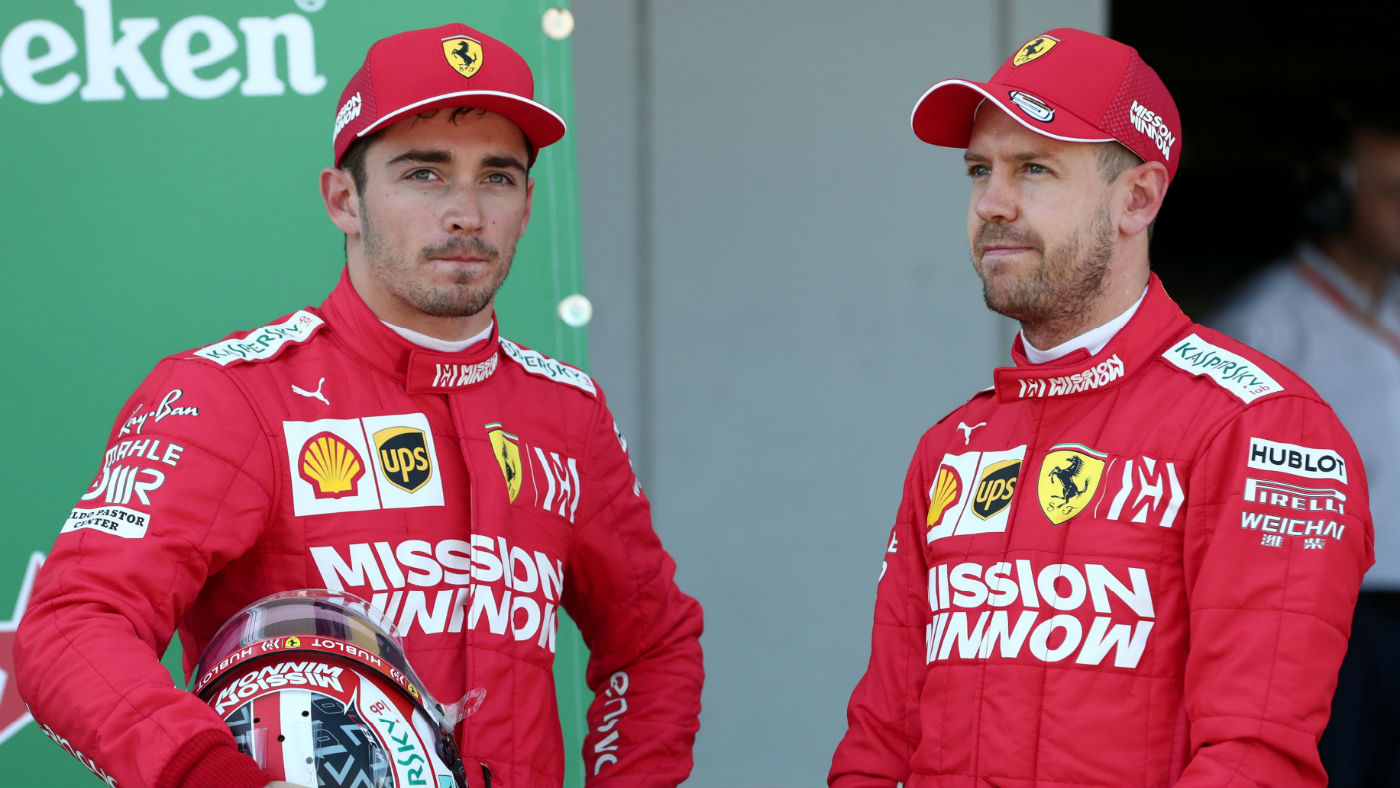without_mask: (374, 134, 523, 304), (963, 141, 1105, 298)
